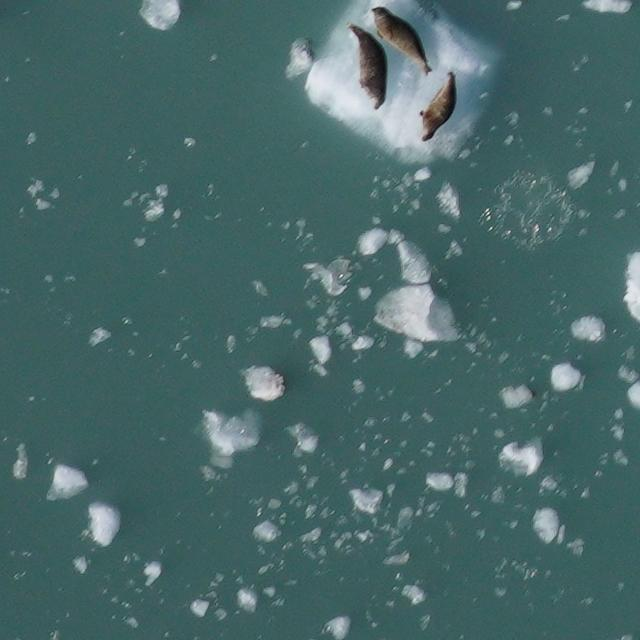seal: (368, 3, 438, 80), (345, 19, 392, 115), (413, 69, 460, 146)
